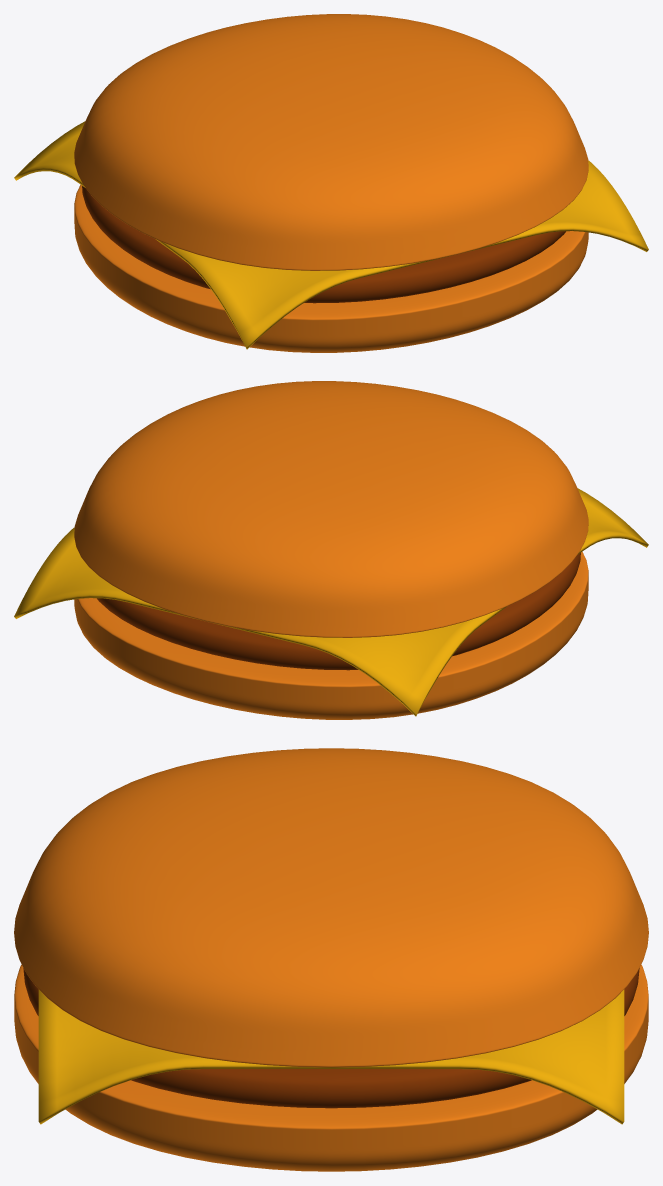
The model's file is hamburger1.glb.
The picture shows the model from 3 angles, top to bottom: view 1: azimuth 30°, elevation 25°; view 2: azimuth 150°, elevation 25°; view 3: azimuth 270°, elevation 25°; orthographic projection. The views are drawn at different scales.
Visible parts, largest first — view 1: Cube.002, Cube, Plane, Cube.001; view 2: Cube.002, Cube, Plane, Cube.001; view 3: Cube.002, Cube, Plane, Cube.001.
Boxes of the visible parts, x1,y1,x2,y2 form: Cube.002: [74, 14, 588, 270]; Cube: [74, 184, 588, 352]; Plane: [14, 121, 648, 349]; Cube.001: [82, 186, 565, 303]; Cube.002: [74, 381, 588, 637]; Cube: [74, 551, 588, 719]; Plane: [14, 488, 648, 716]; Cube.001: [97, 553, 580, 670]; Cube.002: [14, 748, 648, 1067]; Cube: [14, 964, 648, 1171]; Plane: [38, 989, 624, 1124]; Cube.001: [23, 968, 639, 1108].
Size of the model in its own units: 9.15 by 3.9 by 9.15.
